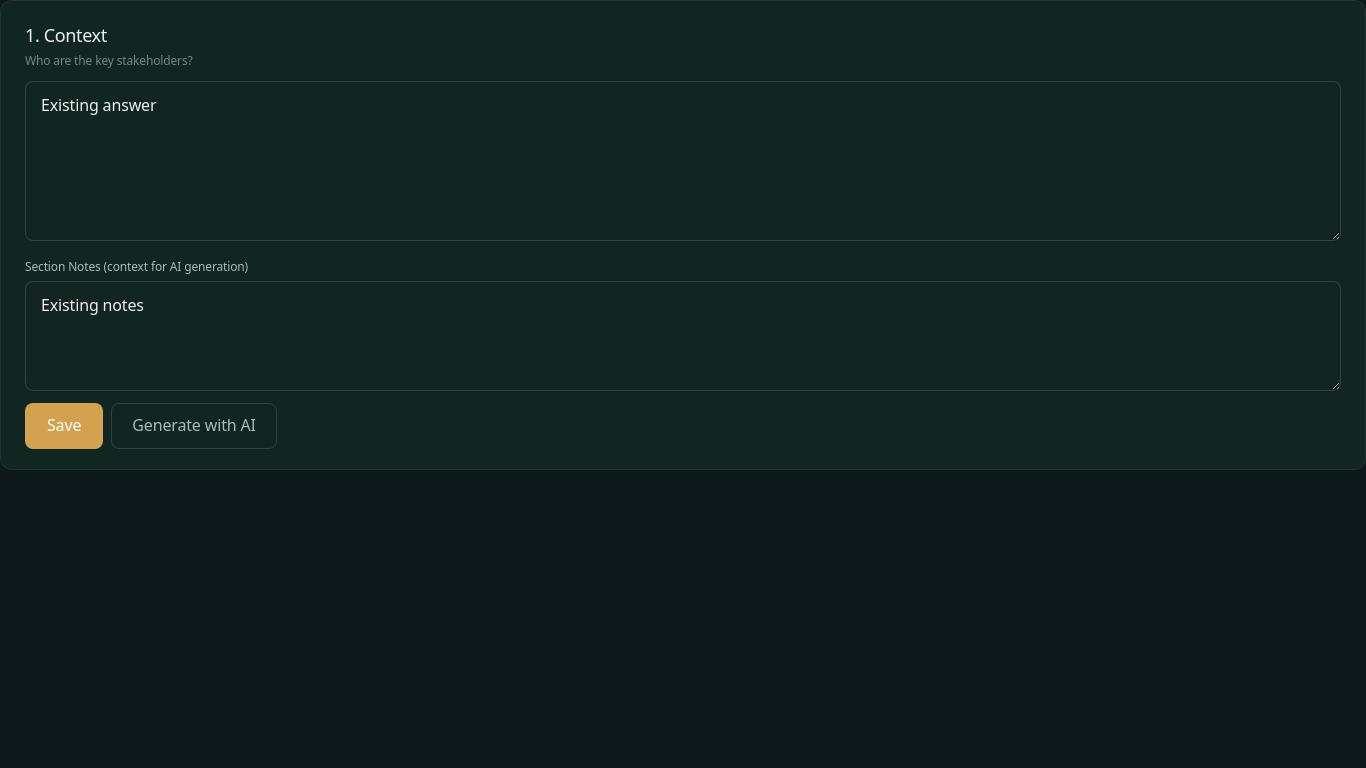
Test: SMQSection › generate success updates answer and shows citations
Click the button "Generate with AI" at (194,426), box [111,403,277,449]
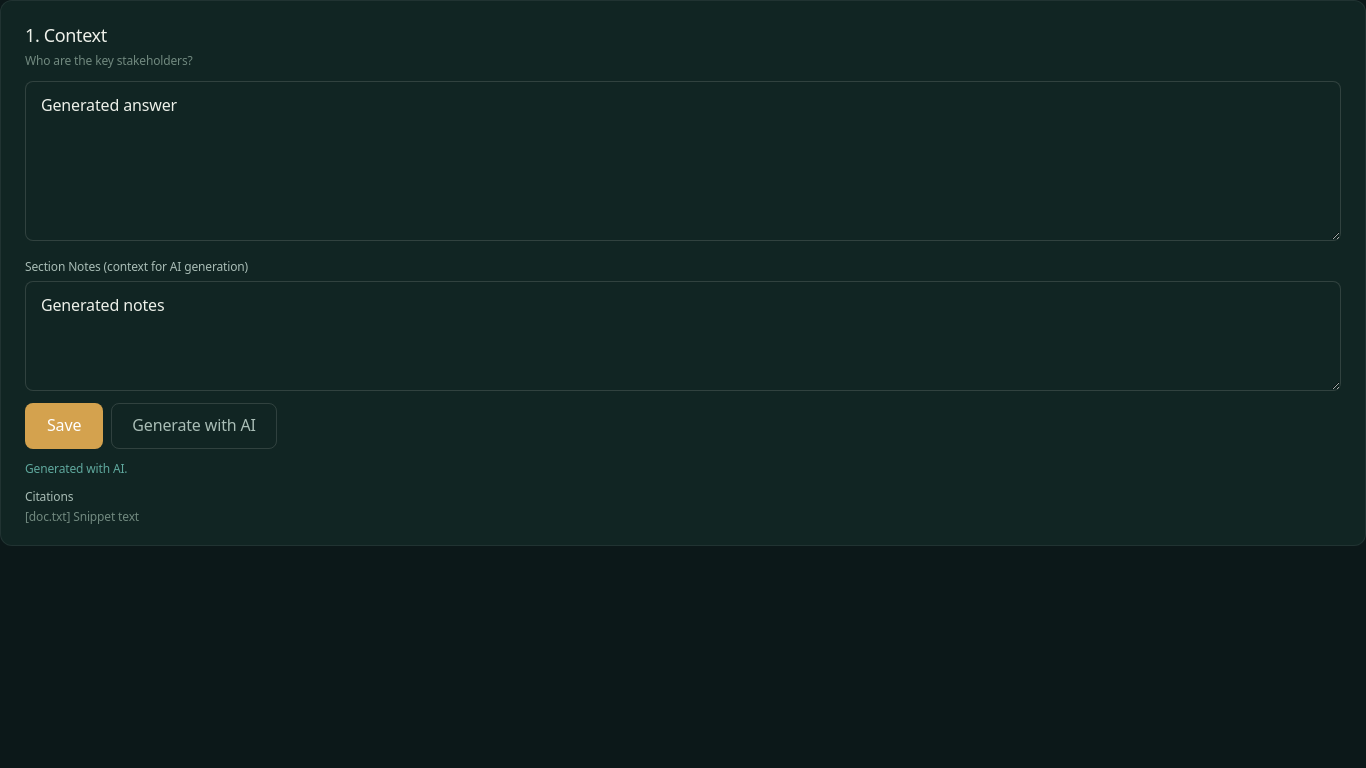
Check: the text box showing "Generated answer" is shown, box [25,81,1341,241]
Check: the text "Generated with AI." is shown, box [25,460,127,477]
Check: the text "Citations" is shown, box [25,488,73,505]
